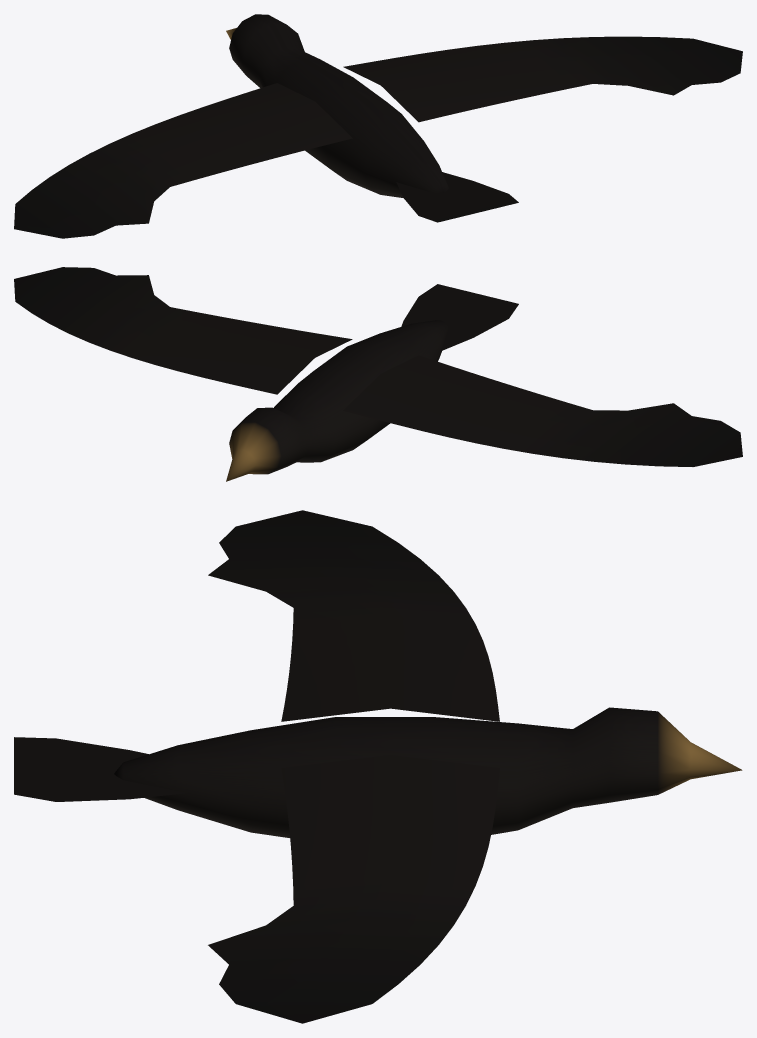
The model's file is bird.glb.
3 renders of one model, top to bottom at view 1: azimuth 30°, elevation 25°; view 2: azimuth 150°, elevation 25°; view 3: azimuth 270°, elevation 25°, orthographic. The views are drawn at different scales.
Visible parts, largest first — view 1: Bird; view 2: Bird; view 3: Bird.
Boxes of the visible parts, x1,y1,x2,y2 form: Bird: (14, 14, 742, 238); Bird: (14, 267, 742, 481); Bird: (14, 510, 742, 1023).
Bounding box in the file's own units: 1 × 0.1145 × 0.6.
